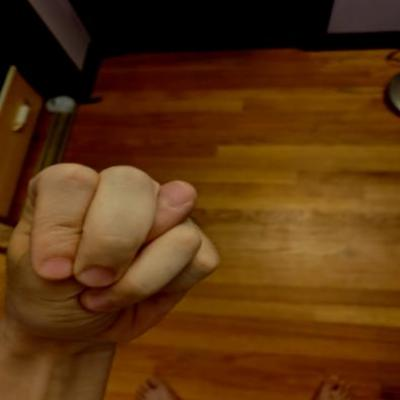hand: (0, 155, 231, 352)
